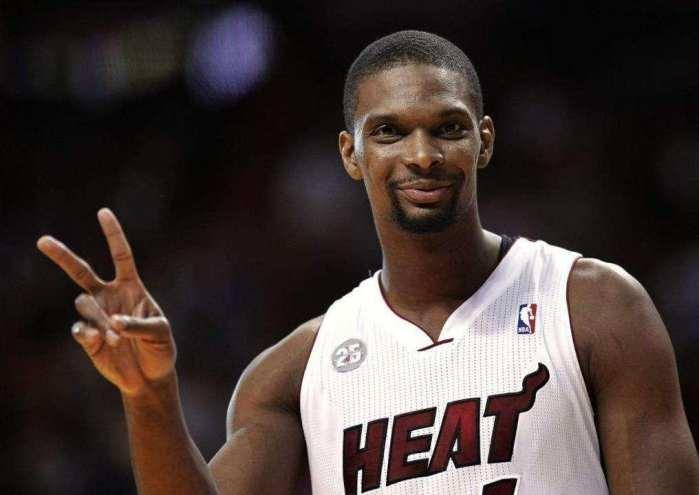no-phone: (32, 200, 181, 396)
